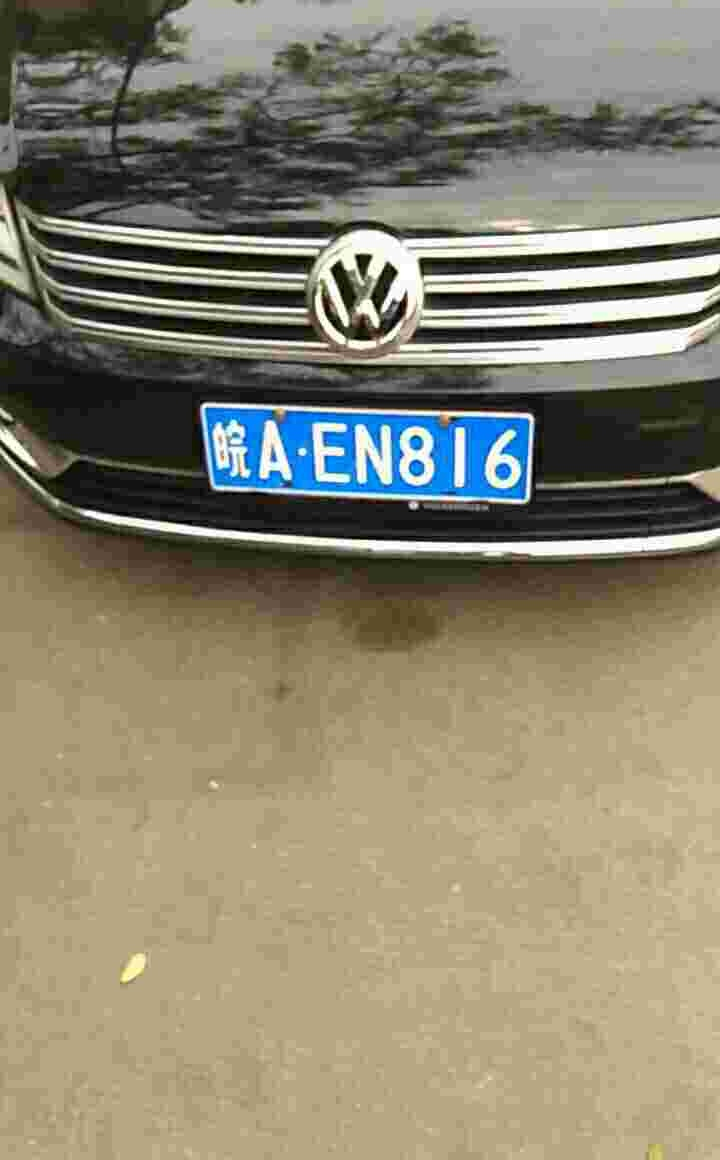license_plate: (199, 403, 543, 502)
